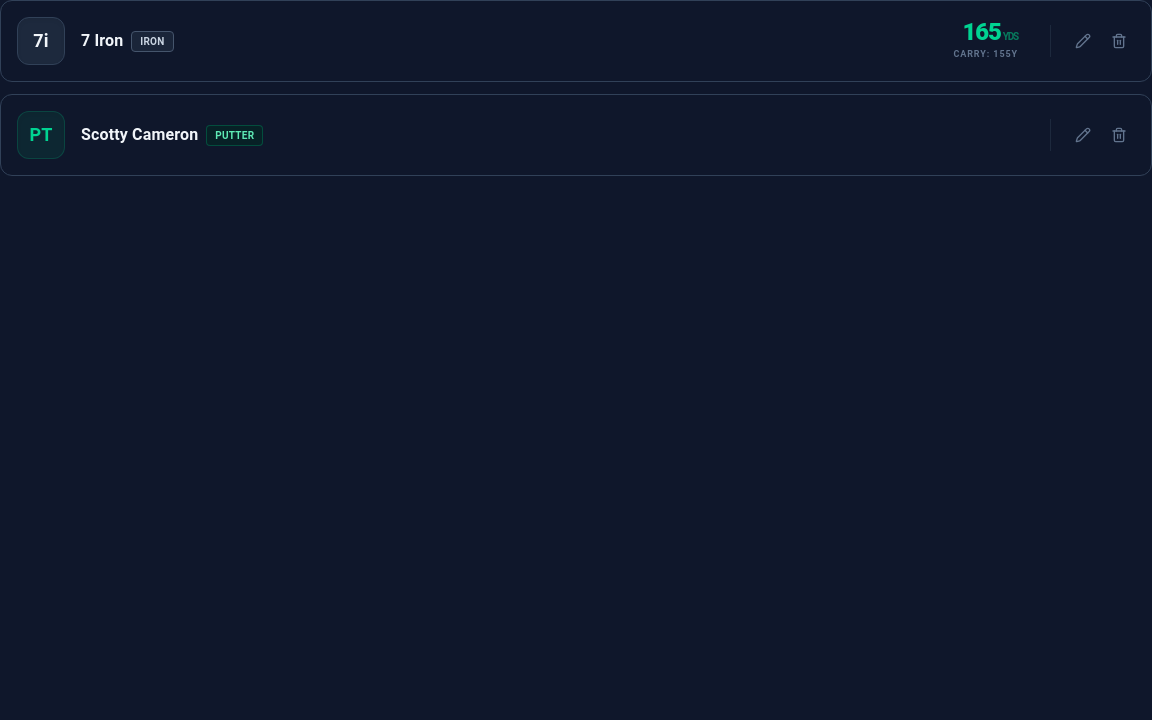
Test: BagClubList Component › Edit Mode — Saving › shows "Saving…" while save is in progress
Click the button named "Edit 7 Iron" at (1083, 41), box top-left (1067, 25), bottom-right (1099, 57)
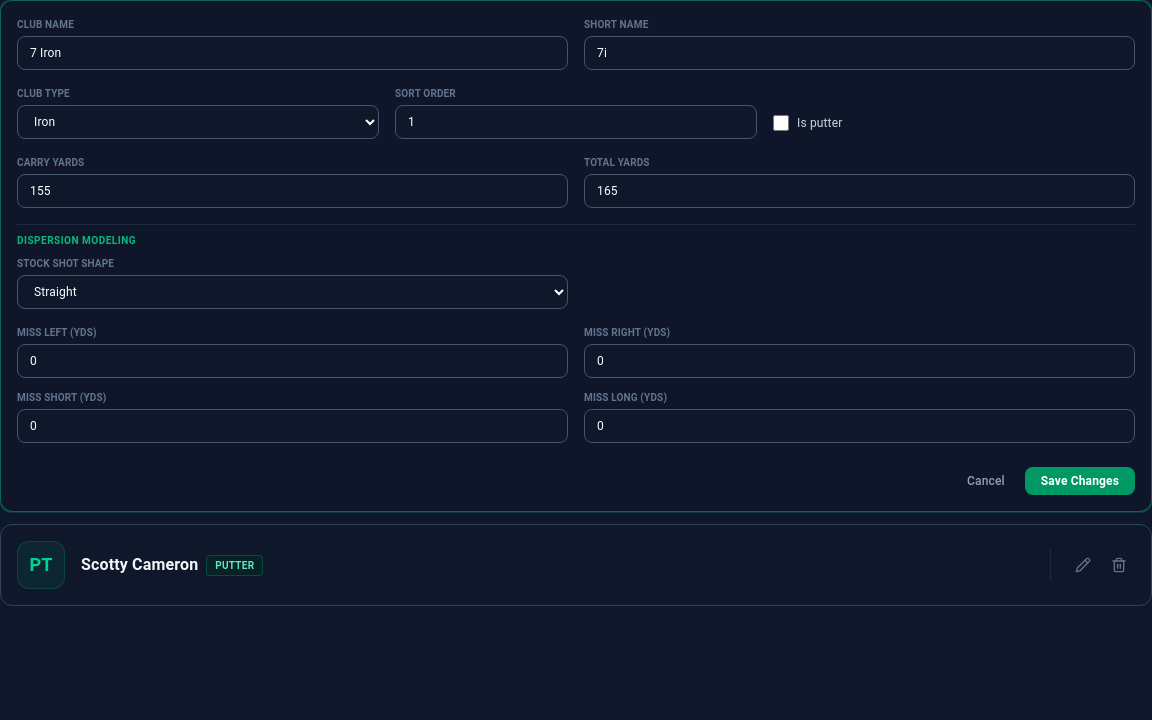
Click the button "Save Changes" at (1080, 481), box top-left (1025, 467), bottom-right (1135, 495)
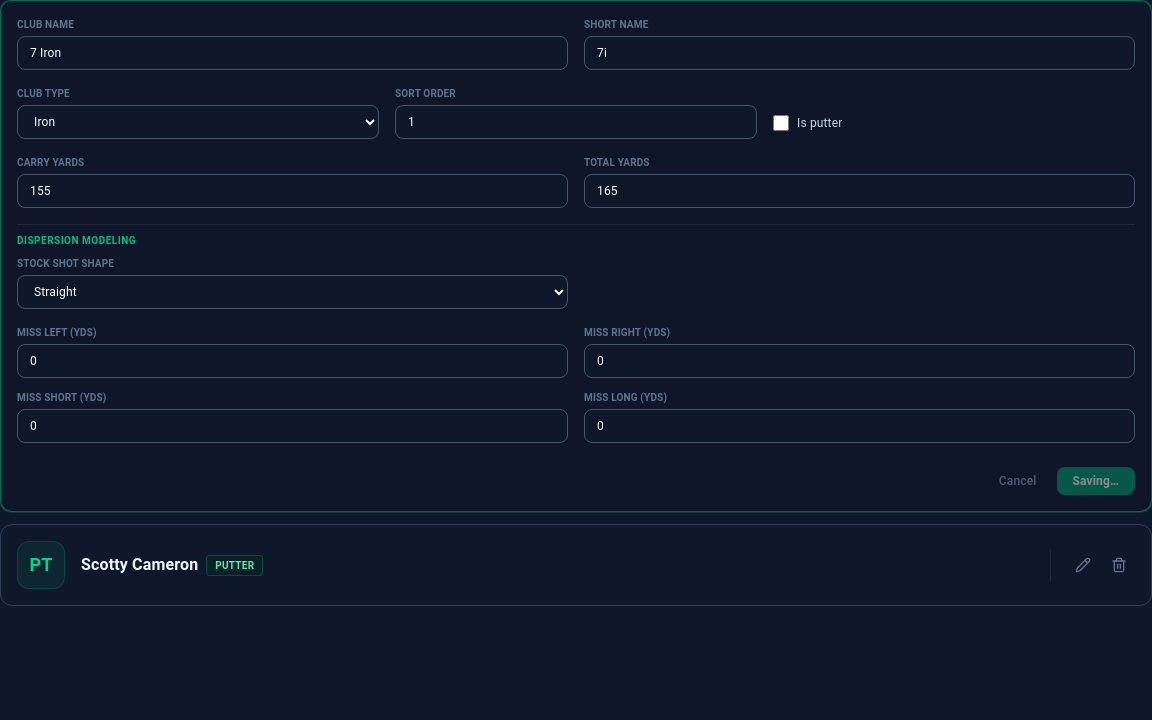
Expected: the button "Saving…" is shown, top-left (1056, 467), bottom-right (1135, 495)
